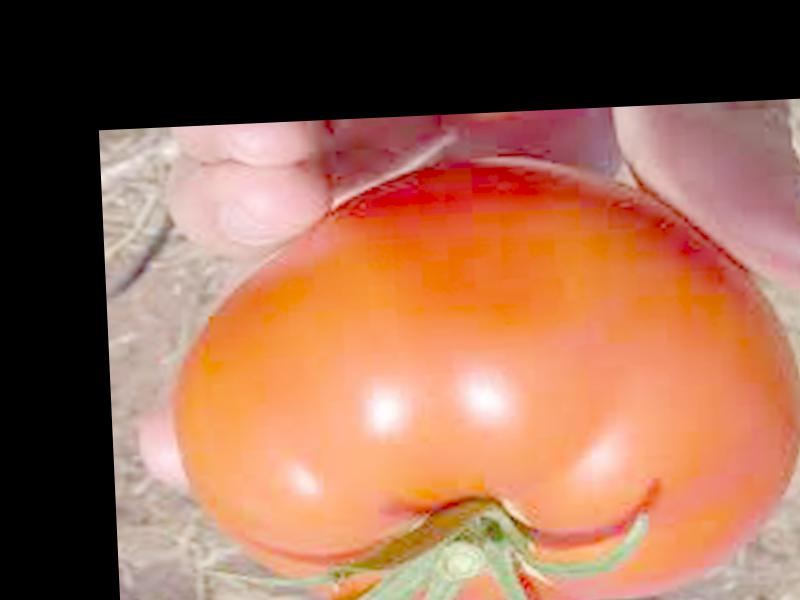Tomato: (164, 149, 800, 600)
